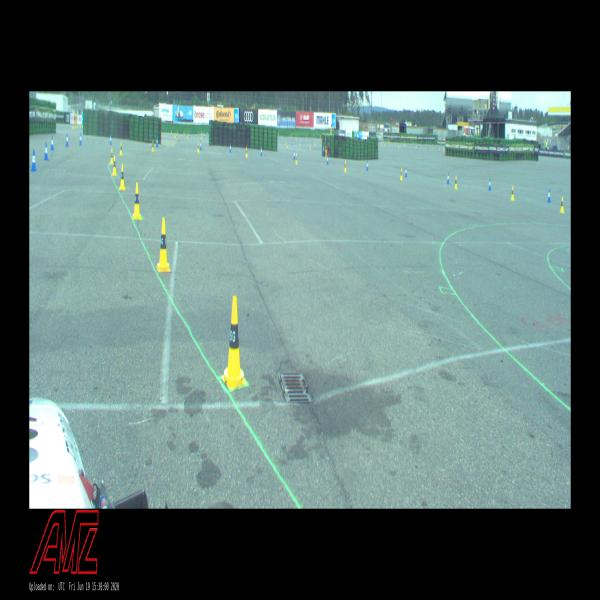blue_cone: (31, 150, 36, 172), (44, 142, 49, 160), (547, 188, 551, 203), (51, 136, 54, 150), (66, 134, 69, 146), (79, 133, 82, 145), (366, 160, 369, 171), (489, 178, 491, 190), (110, 134, 112, 145), (405, 167, 407, 178), (447, 173, 449, 184), (156, 137, 158, 147), (294, 150, 296, 160), (200, 141, 202, 150), (260, 147, 262, 156), (326, 156, 328, 164), (230, 144, 231, 152)
yellow_cone: (221, 296, 247, 389), (157, 218, 170, 271), (133, 183, 141, 219), (119, 164, 126, 190), (112, 156, 117, 176), (560, 196, 564, 214), (110, 148, 114, 164), (511, 186, 514, 200), (455, 176, 458, 189), (344, 161, 347, 172), (120, 142, 122, 155), (152, 140, 154, 152), (400, 168, 402, 180), (246, 147, 248, 158), (296, 154, 298, 164), (198, 142, 199, 153)
